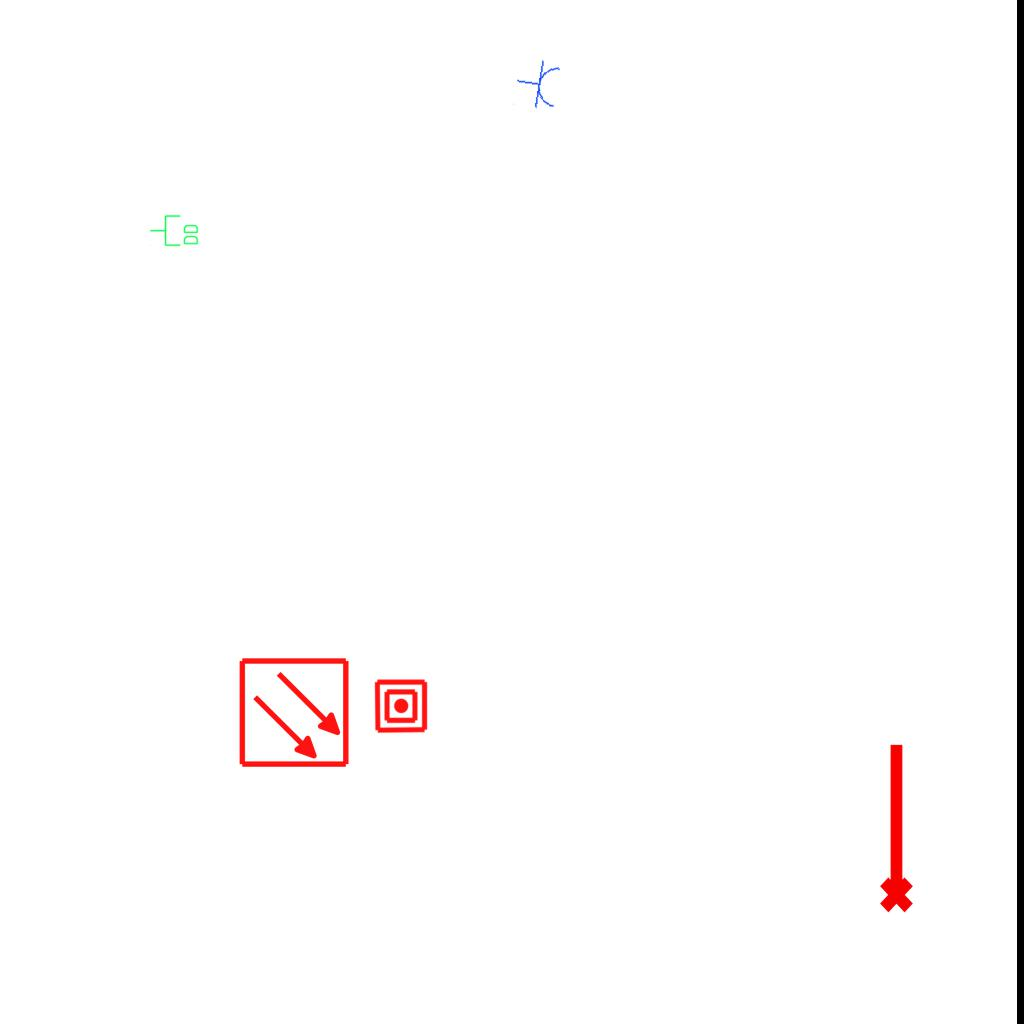ASR_Ansaugoeffnung: (871, 739, 917, 915)
Datenanschluss_zweifach: (149, 214, 200, 248)
NAM-Nichtautomatischer_Melder: (373, 678, 429, 734)
RMO_Rauchmelder_optischer: (238, 656, 351, 769)
Schukosteckdose_einfach: (512, 56, 564, 113)
